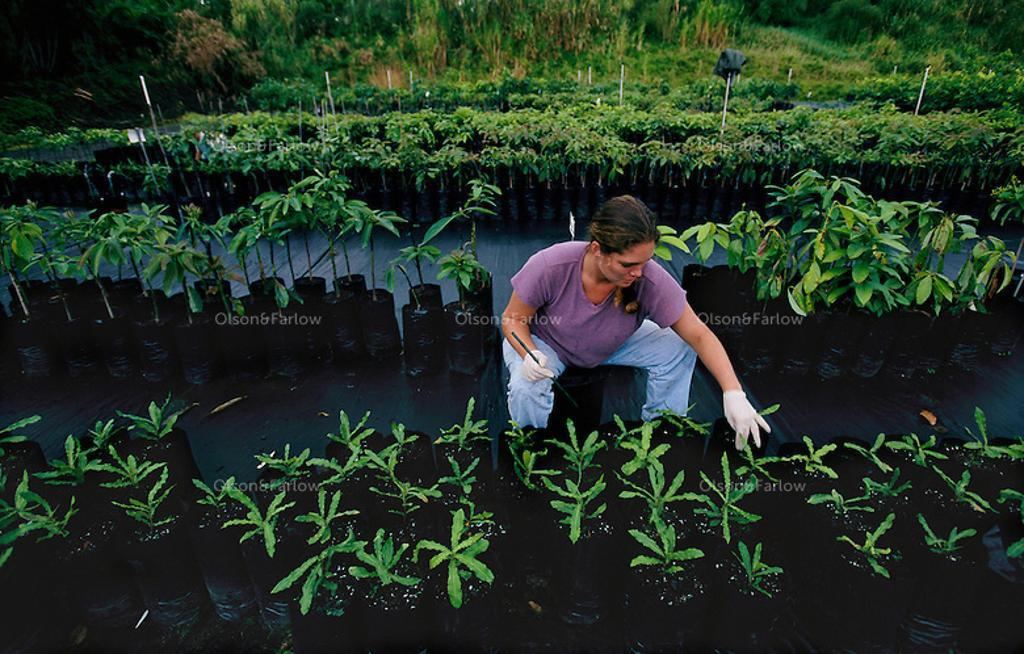face: (601, 241, 654, 287)
